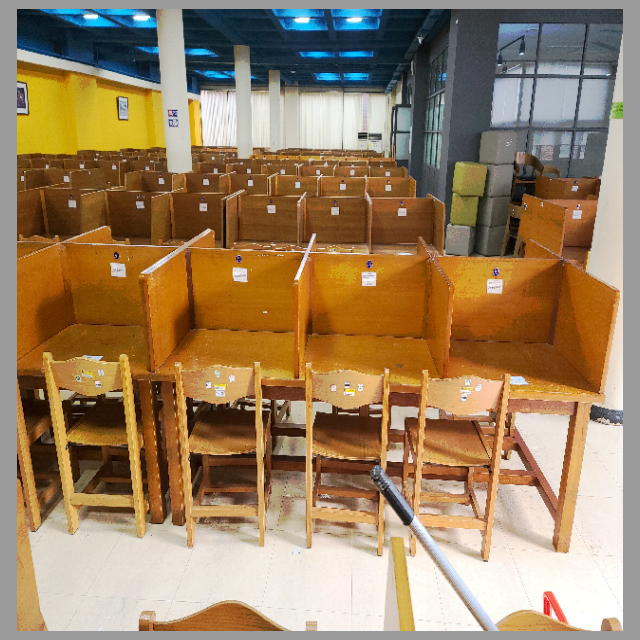empty: (459, 242, 620, 444), (303, 237, 448, 443), (161, 237, 295, 450)
